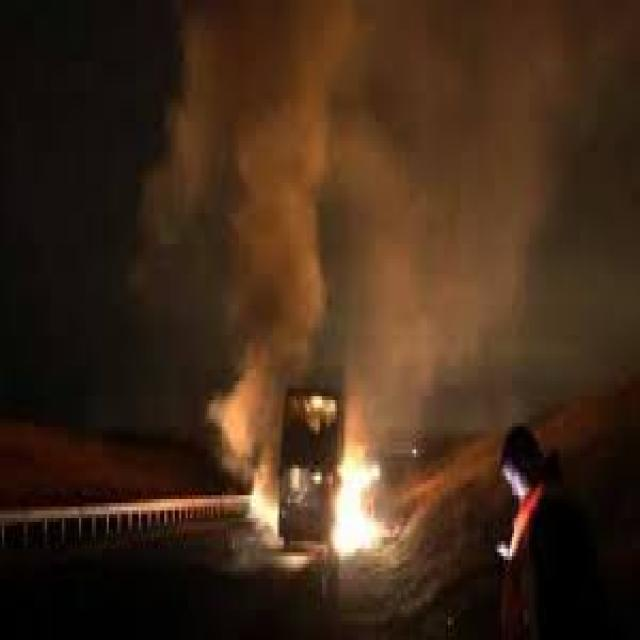Fire: (334, 459, 394, 562), (243, 460, 285, 547)
Smoke: (123, 0, 640, 462)
